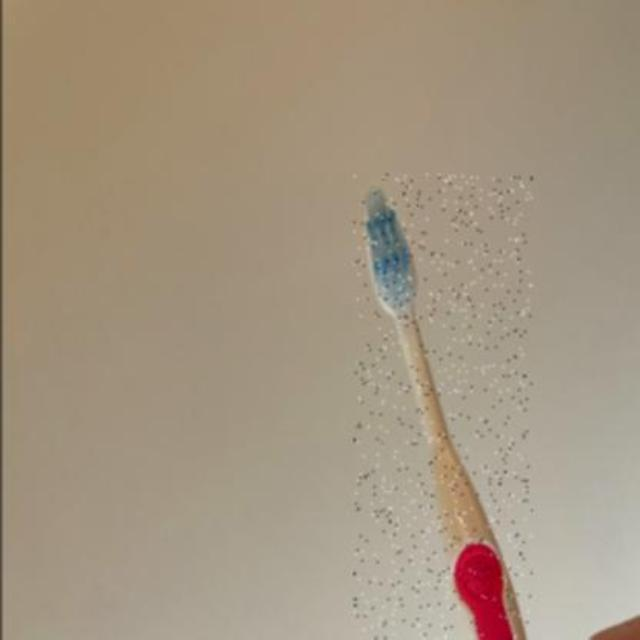toothbrush: (353, 174, 531, 640)
